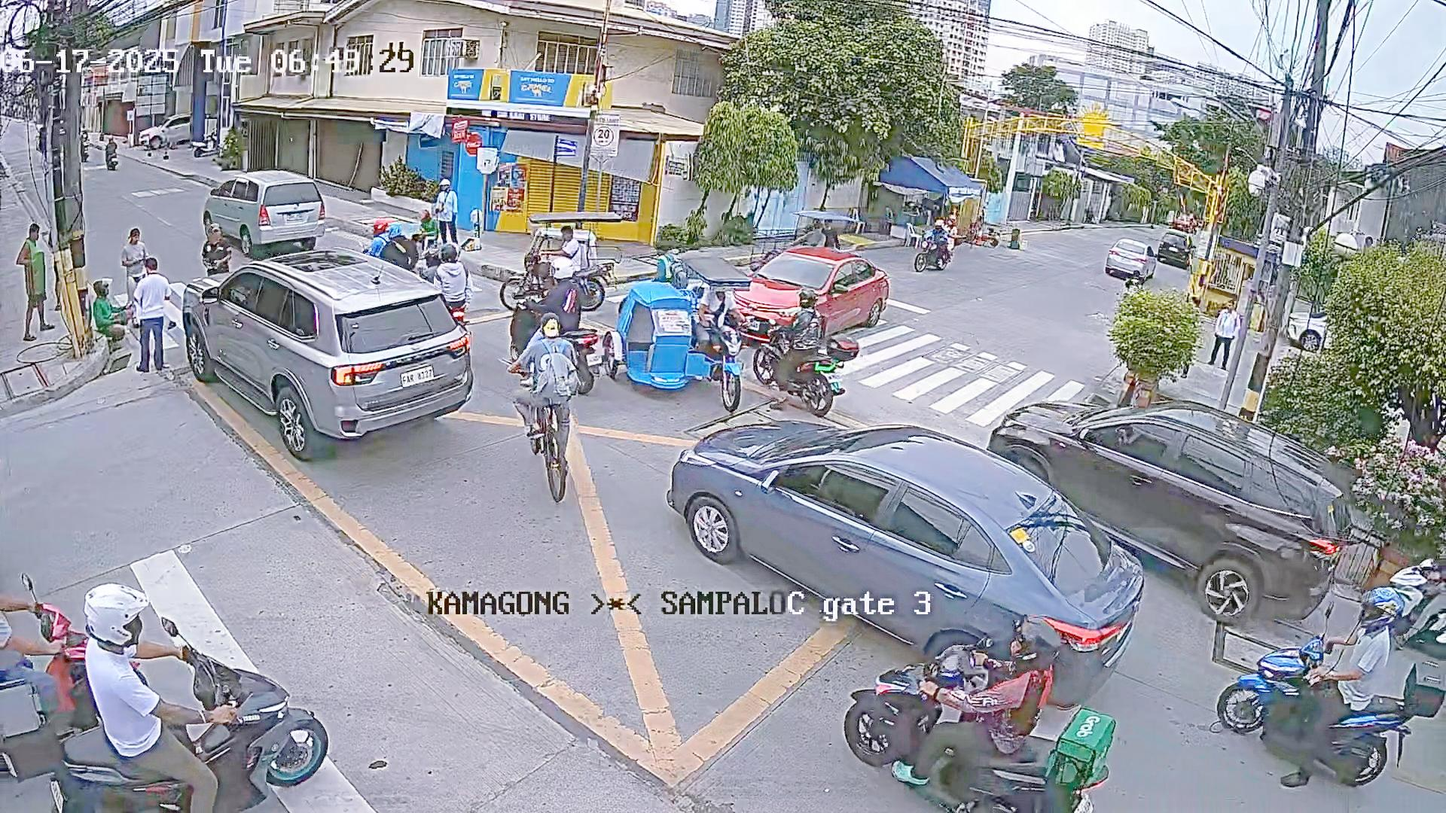Car: (633, 425, 1139, 698), (1001, 368, 1353, 618), (167, 238, 482, 461), (718, 238, 966, 341), (181, 165, 357, 247), (1095, 232, 1157, 289)
Motor: (0, 539, 346, 813), (812, 622, 1198, 813), (1202, 590, 1446, 813), (760, 288, 896, 410), (408, 225, 509, 347), (349, 196, 435, 284)
